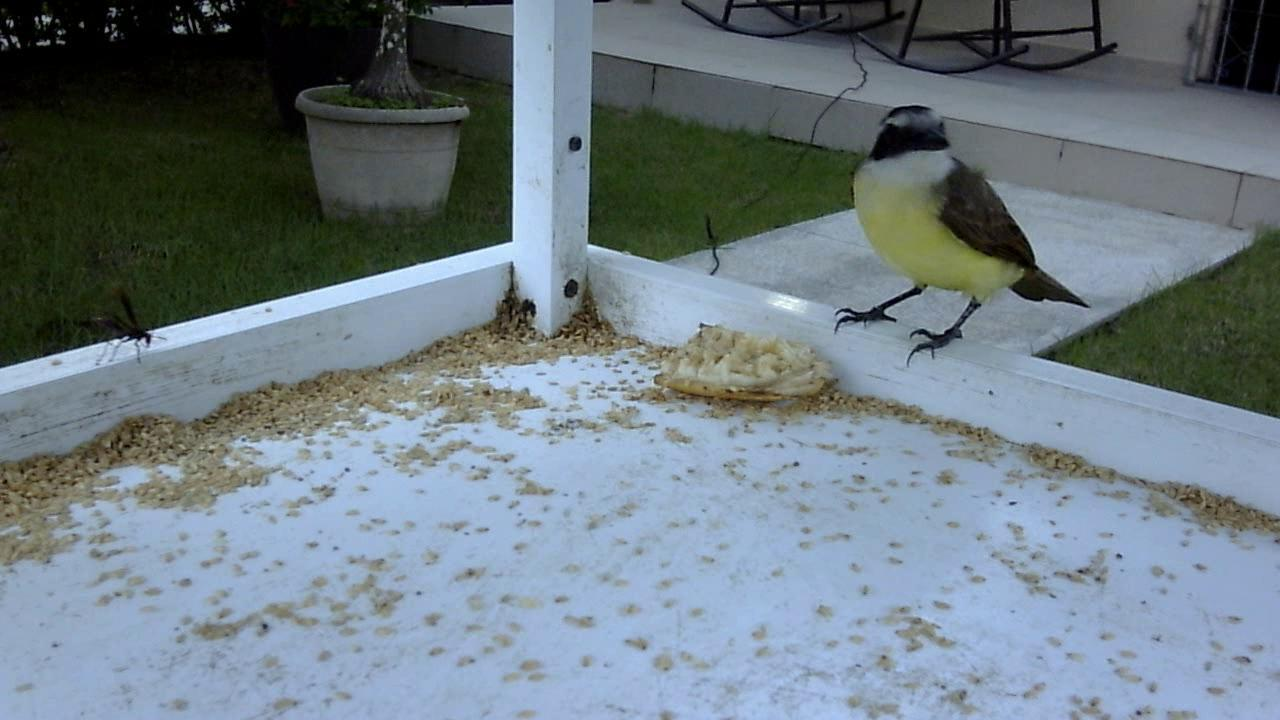bem_te_vi: (814, 96, 1100, 382)
